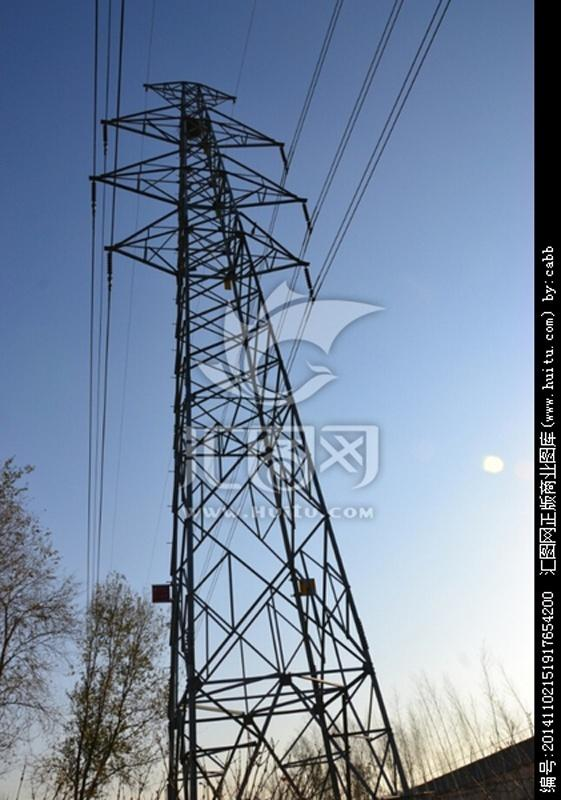power_tower: (83, 68, 403, 735)
